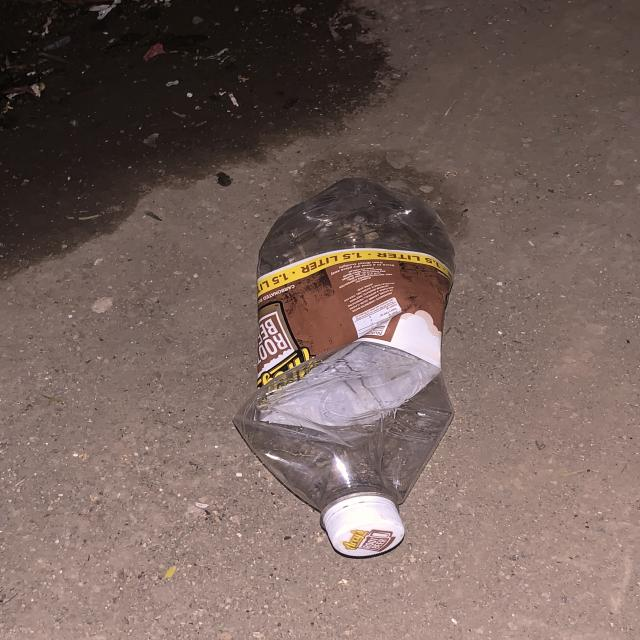Bottle: (234, 178, 455, 558)
